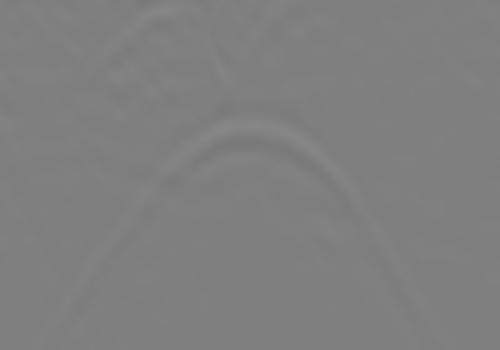hyperbola: (73, 111, 436, 324)
